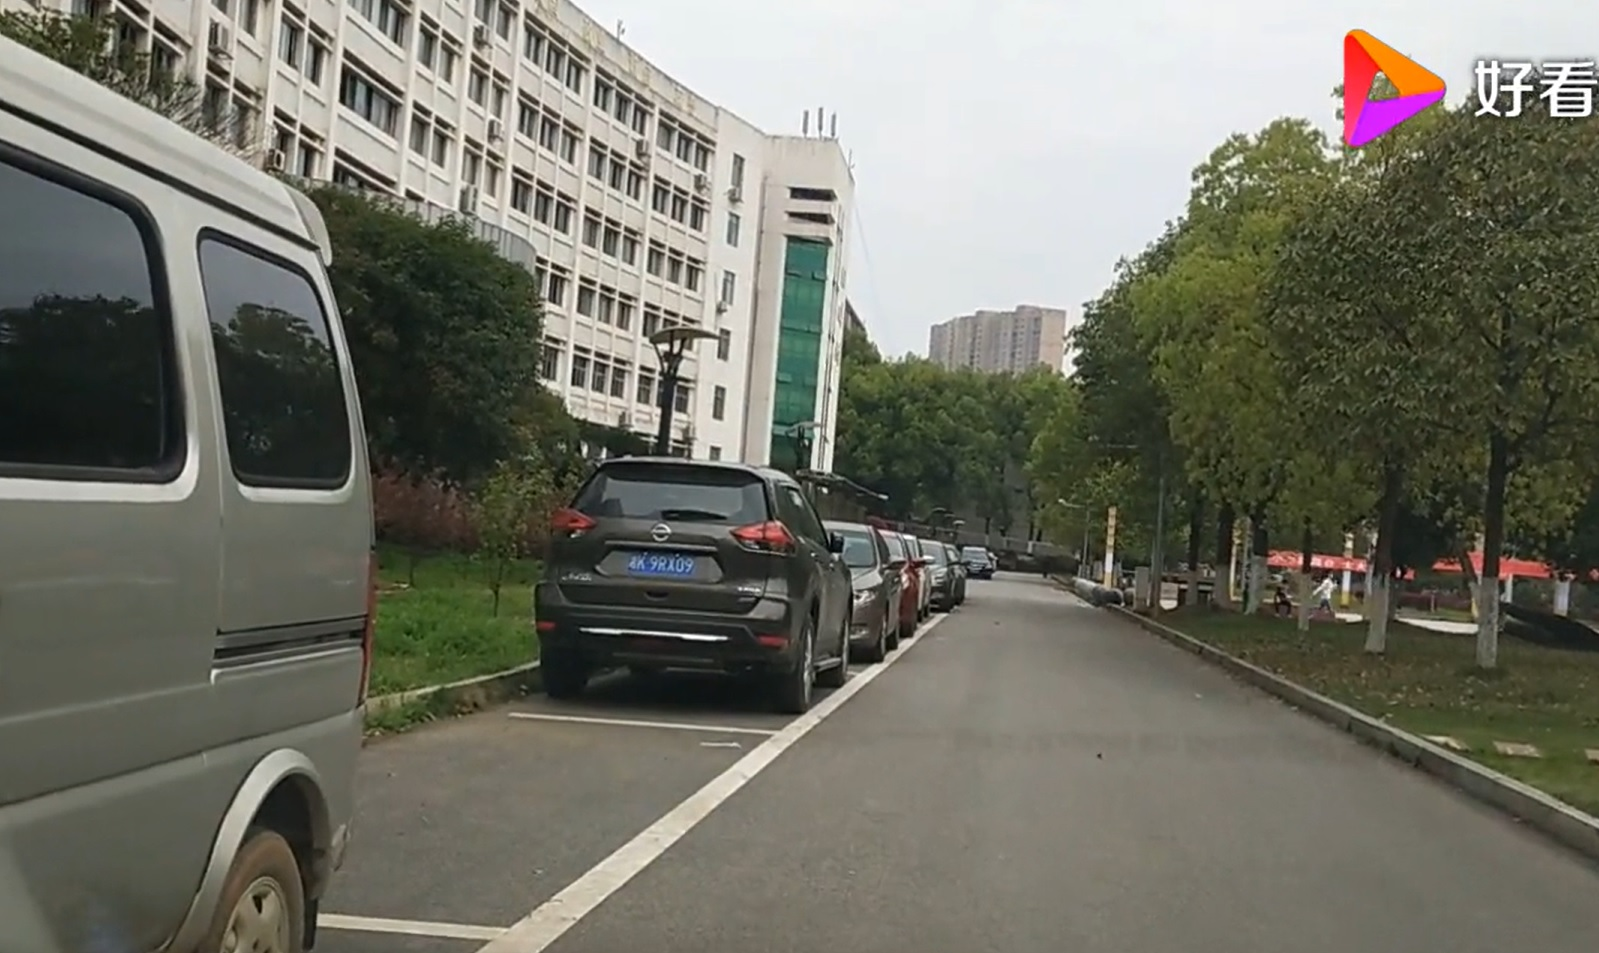slot_nocar: (143, 650, 826, 953)
